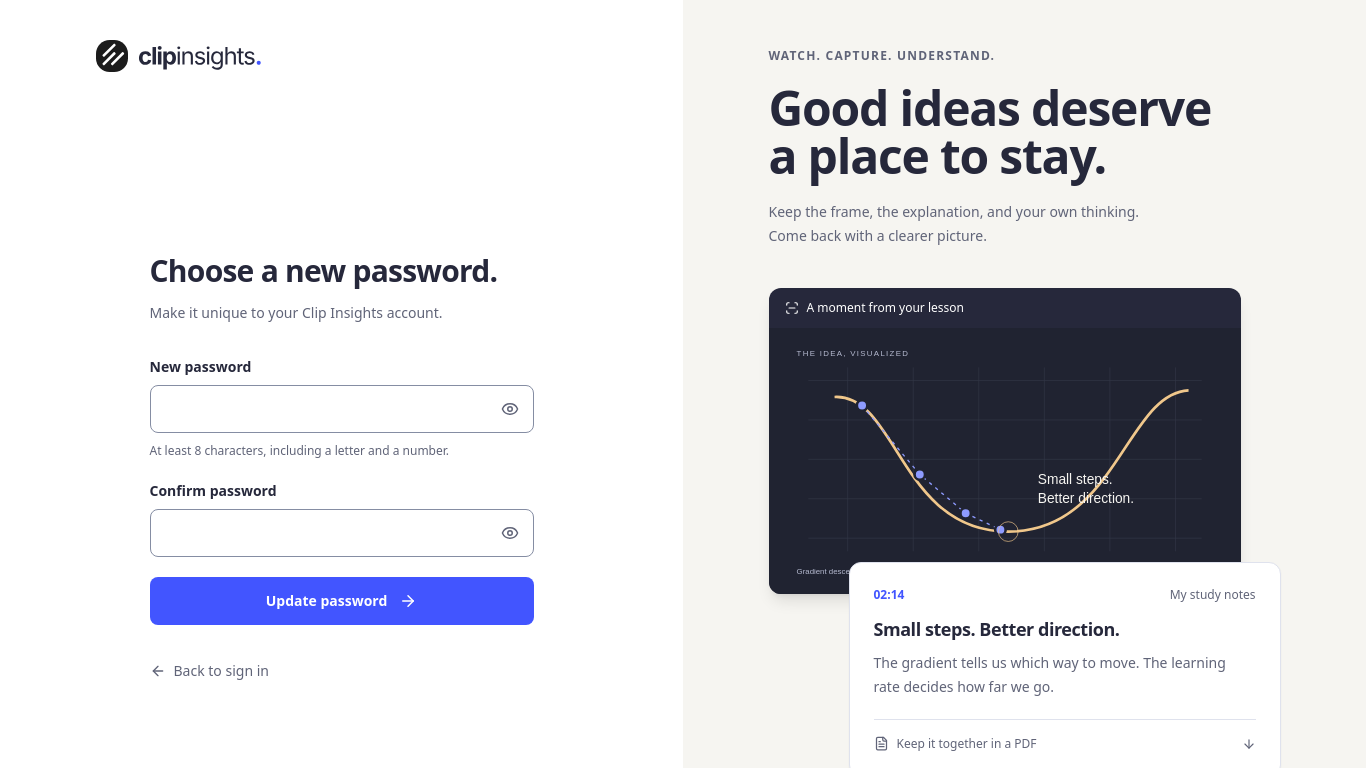
it: account recovery › offers an explicit sign-in step after a successful password update
Type "securepass1" into the password field labelled "New password" at (342, 409), box left=150, top=385, right=534, bottom=433
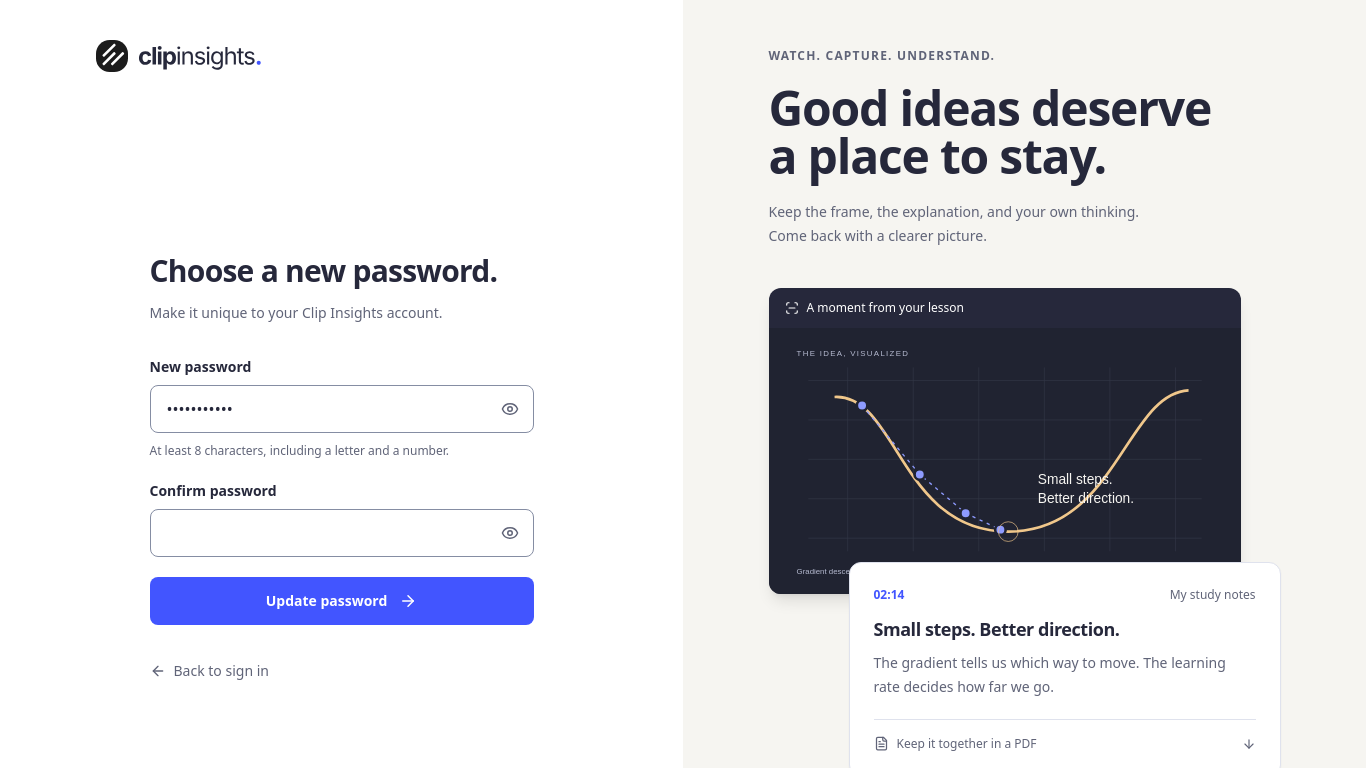
Type "securepass1" into the password field labelled "Confirm password" at (342, 533), box left=150, top=509, right=534, bottom=557
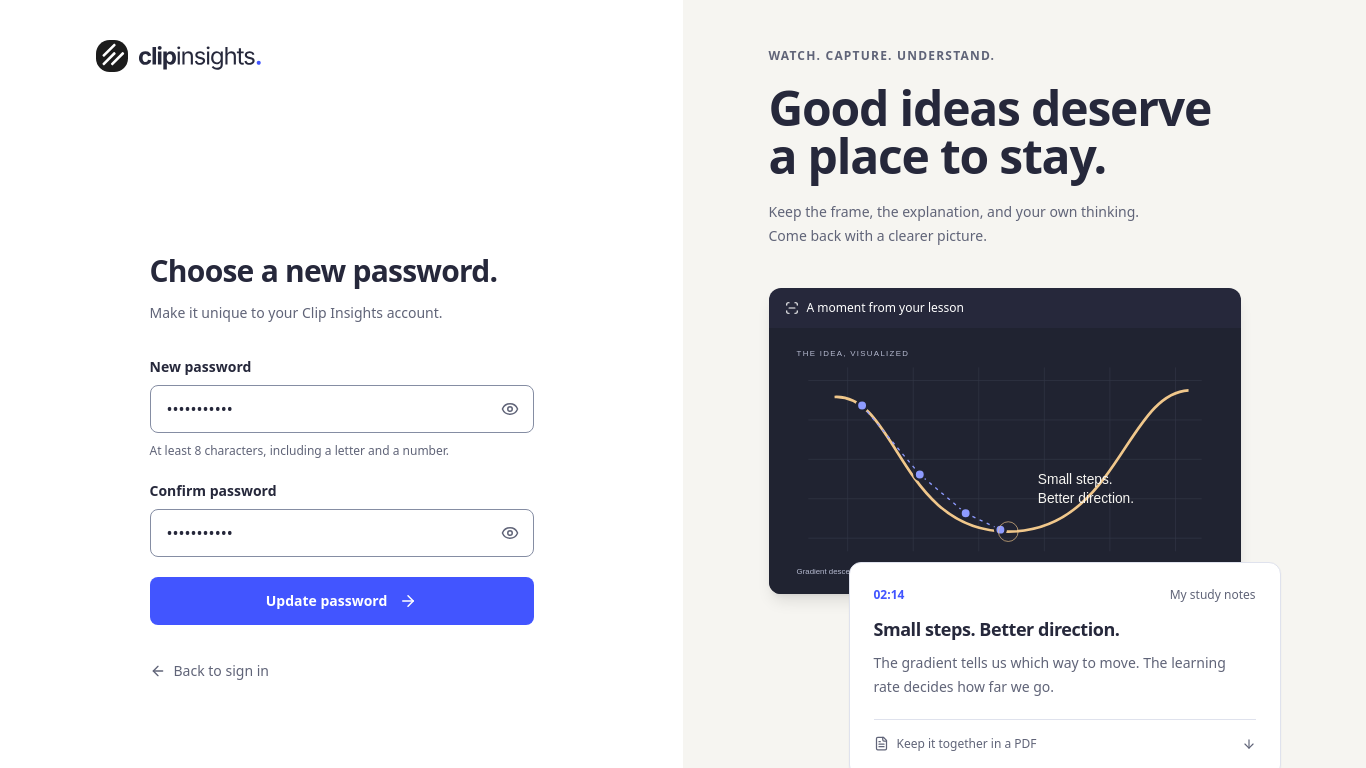
Click the button "Update password" at (342, 601), box left=150, top=577, right=534, bottom=625
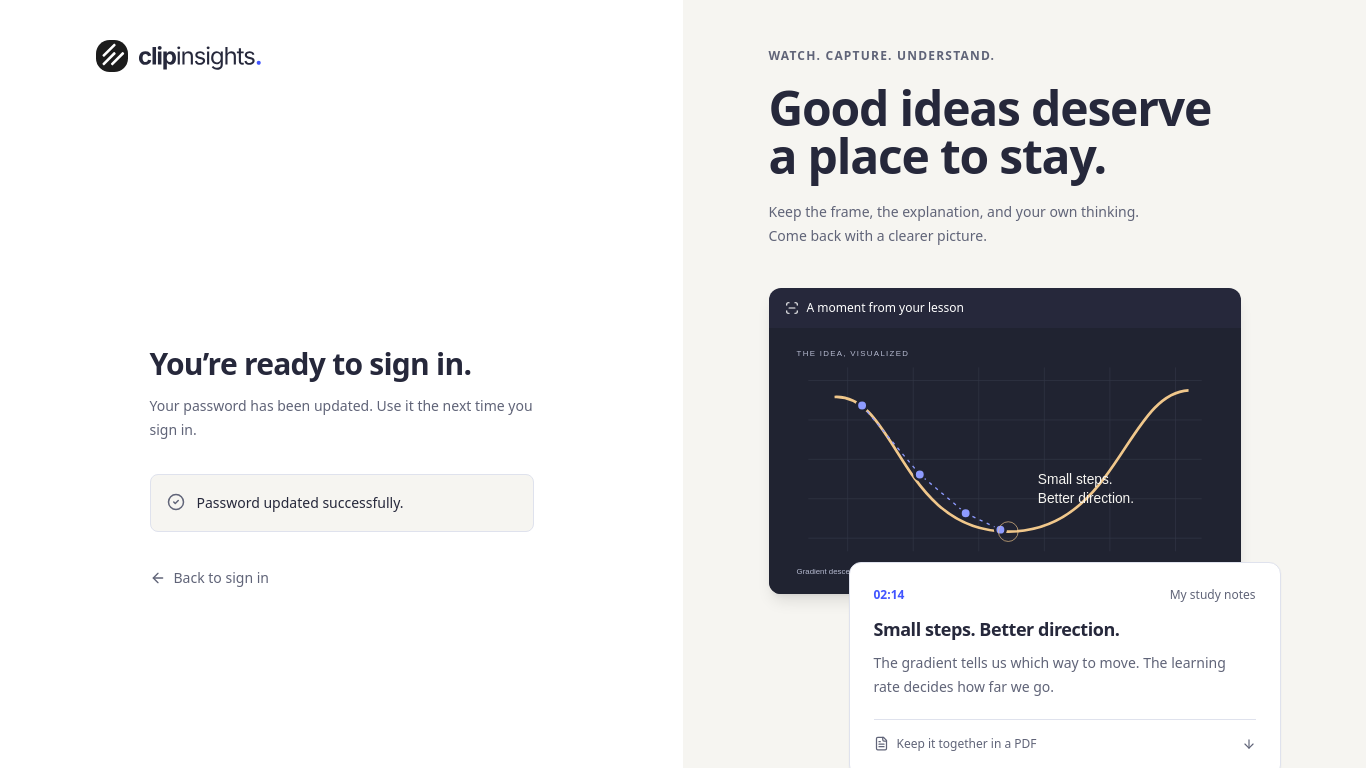
Result: the heading "You’re ready to sign in." is shown at left=150, top=343, right=471, bottom=384
